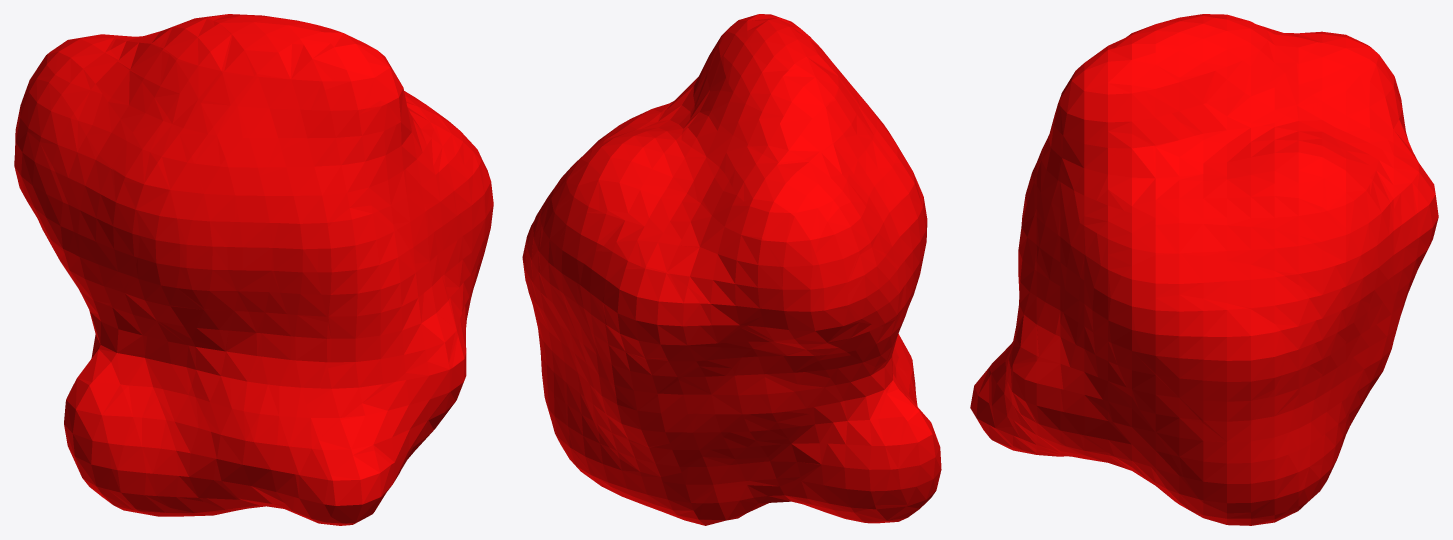
Rendered from cspA_coarse.dae.
3 renders of one model, left to right at view 1: azimuth 30°, elevation 25°; view 2: azimuth 150°, elevation 25°; view 3: azimuth 270°, elevation 25°, orthographic. The views are drawn at different scales.
Visible parts, largest first — view 1: cspA; view 2: cspA; view 3: cspA.
Boxes of the visible parts, bbox=[...] form: cspA: bbox=[14, 14, 493, 525]; cspA: bbox=[522, 14, 941, 525]; cspA: bbox=[970, 14, 1438, 525].
Size of the model in its own units: 29.77 by 33.09 by 31.3.
